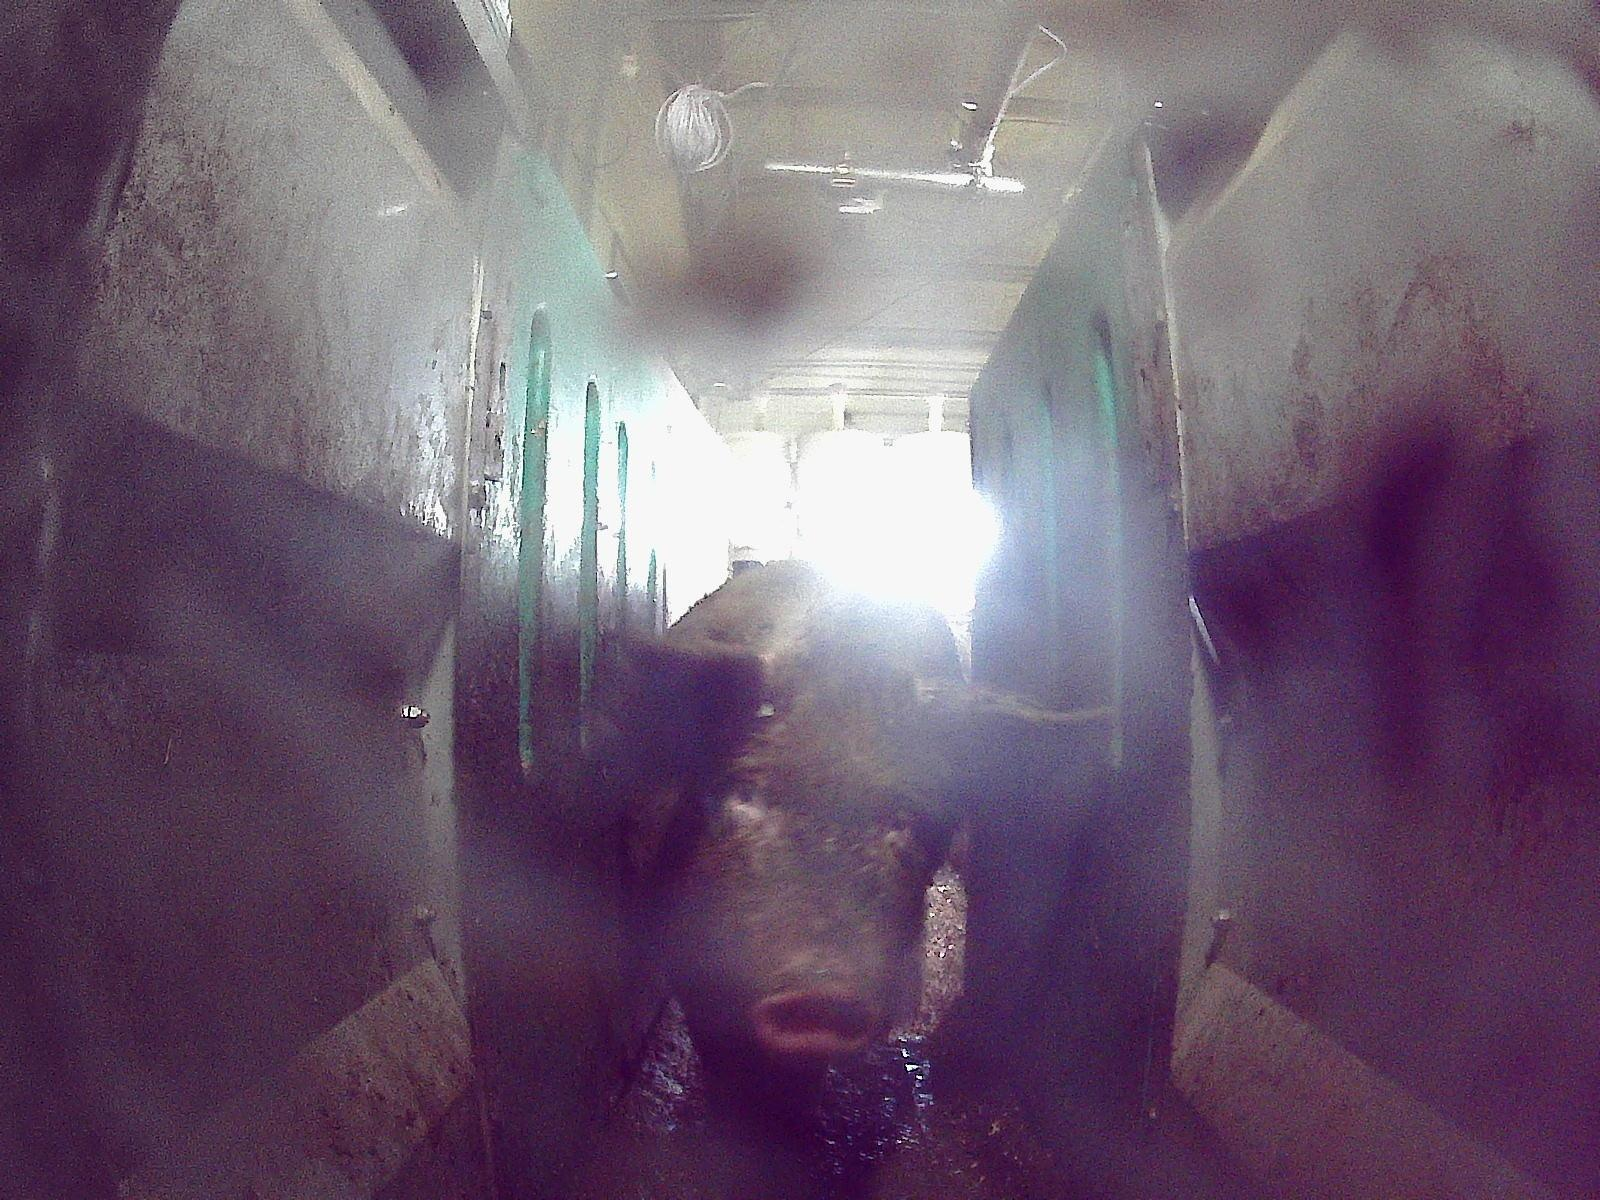Face: (673, 660, 954, 1061)
